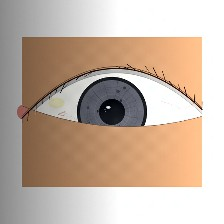pinguecula_lesion: (41, 90, 73, 116)
